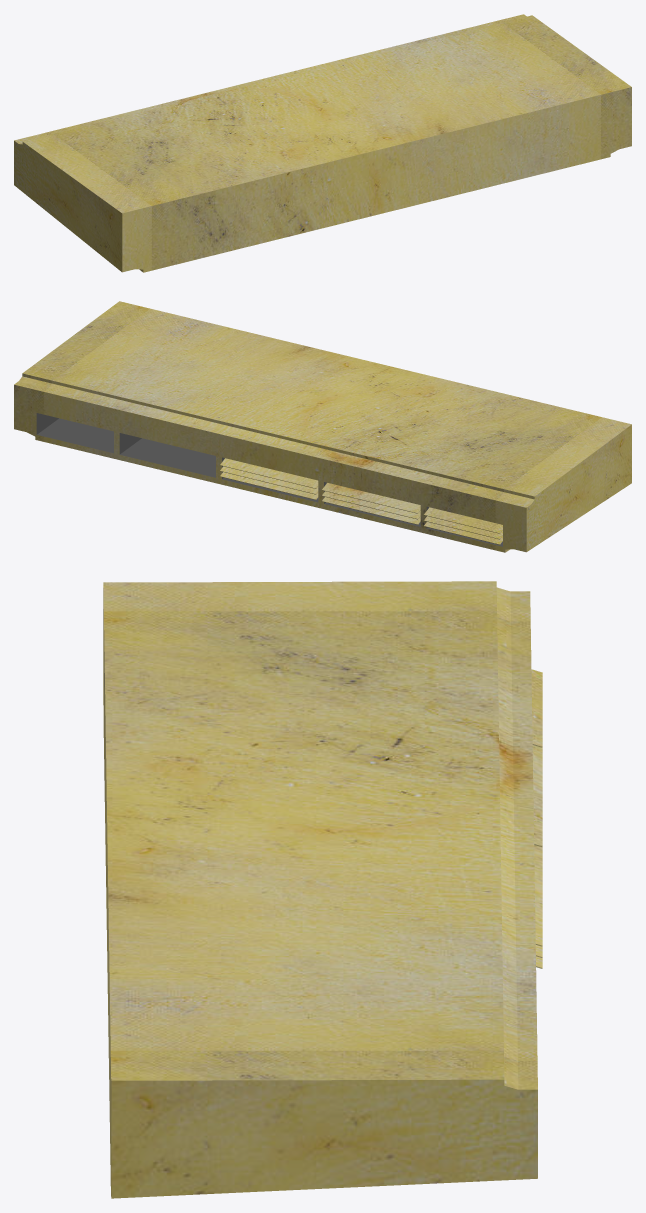
Rendered from Aire_Acondicionado (1).fbx.
3 renders of one model, top to bottom at view 1: azimuth 30°, elevation 25°; view 2: azimuth 150°, elevation 25°; view 3: azimuth 270°, elevation 25°, orthographic. The views are drawn at different scales.
Visible parts, largest first — view 1: Aire_Acondicionado; view 2: Aire_Acondicionado; view 3: Aire_Acondicionado.
Boxes of the visible parts, x1=… form: Aire_Acondicionado: x1=14, y1=14, x2=631, y2=272; Aire_Acondicionado: x1=14, y1=301, x2=631, y2=552; Aire_Acondicionado: x1=103, y1=581, x2=542, y2=1198.
Size of the model in its own units: 415 by 50 by 154.
